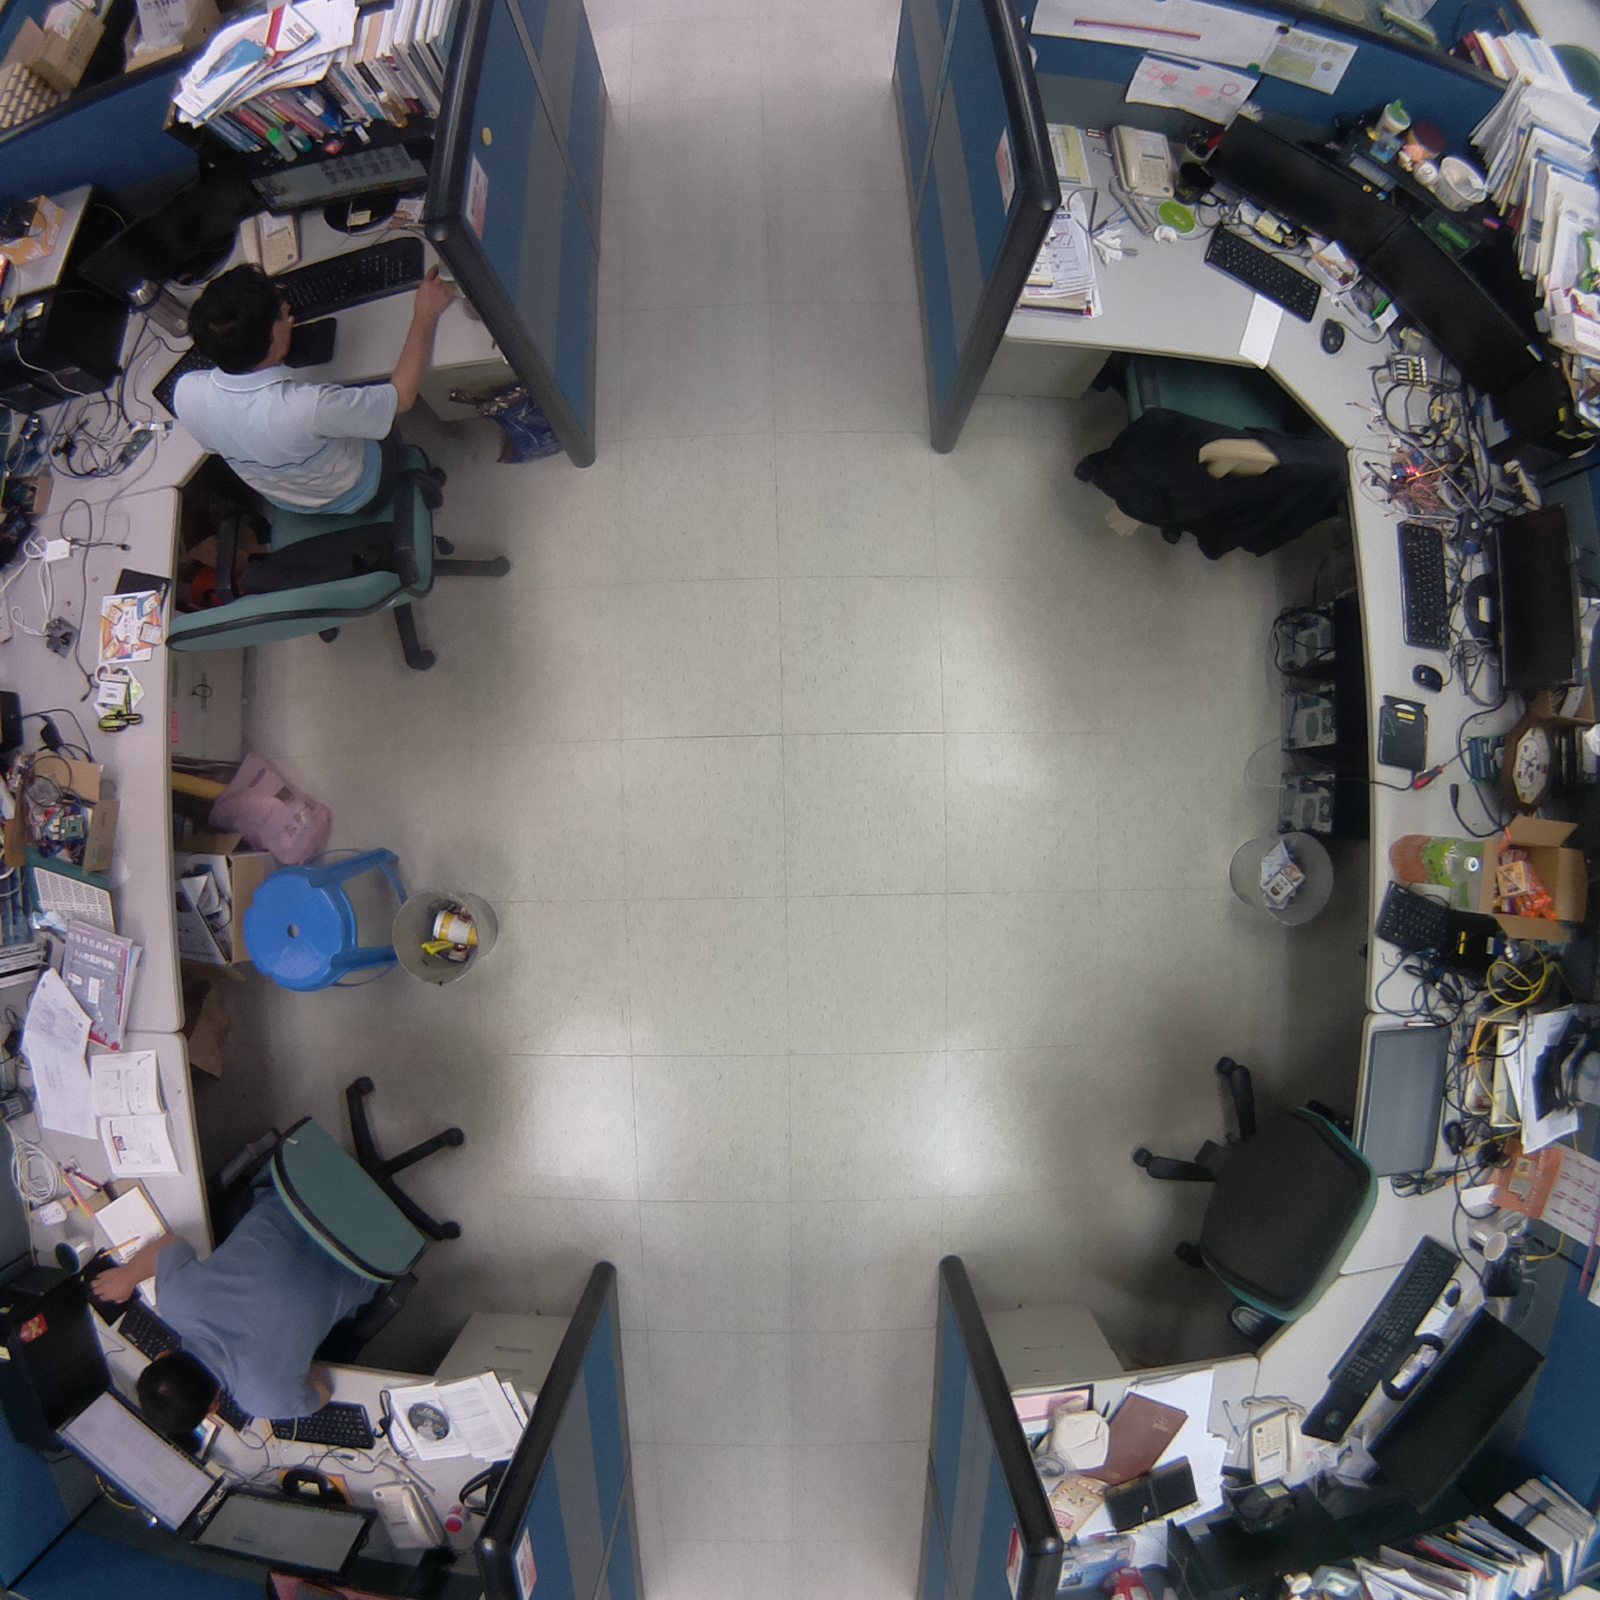chair: (1112, 1042, 1399, 1365), (1068, 340, 1360, 573)
head: (181, 256, 301, 383), (128, 1343, 228, 1451)
sitting: (159, 251, 532, 688), (76, 1065, 486, 1431)
